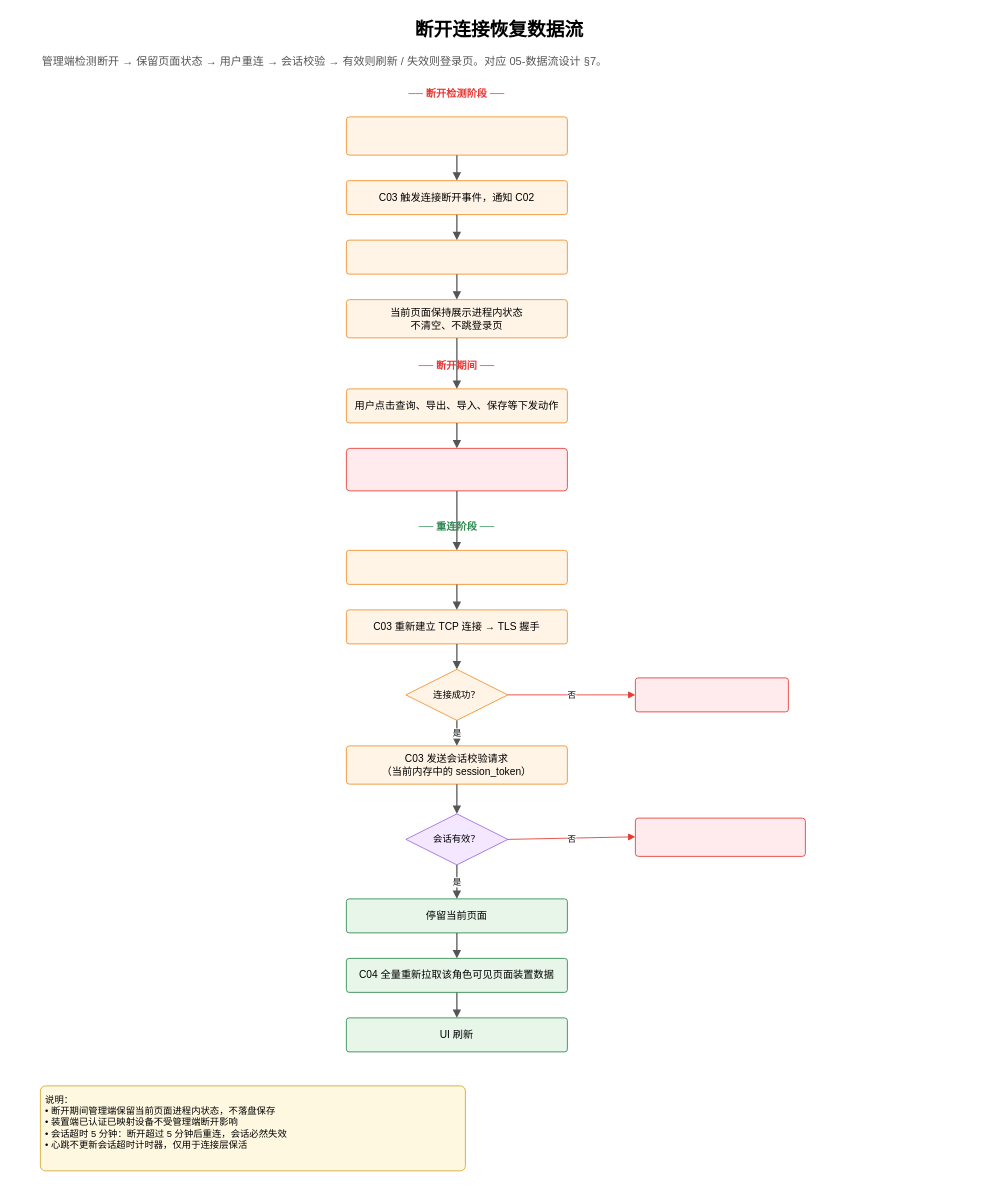
Image size: 998x1186. Some labels were removed from this diagram. Here are the shapes that lost their labels. From the top down, the centre of each, then its label:
point 456,135: C03 检测到 TCP 连接断开 （心跳超时 / 网络异常）
point 456,256: C02 更新 Pinia 全局状态：连接状态 = 已断开
point 456,469: C03 立即返回连接不可用错误 页面提示"装置已断开，请重新连接后再操作"
point 456,567: 用户重新连接装置
point 711,694: 保持断开状态 用户可再次尝试
point 720,836: C02/C04 清空进程内会话状态 返回登录页重新登录
